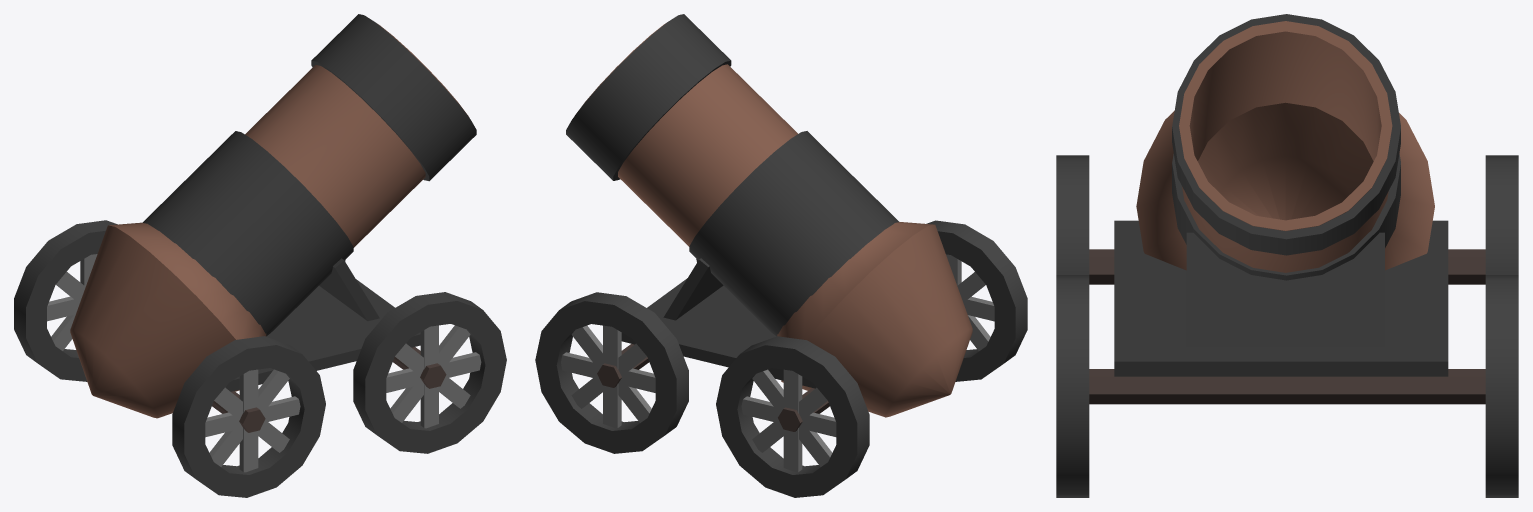
The model's file is west_cannon.fbx.
The picture shows the model from 3 angles, left to right: view 1: azimuth 30°, elevation 25°; view 2: azimuth 150°, elevation 25°; view 3: azimuth 270°, elevation 25°; orthographic projection. The views are drawn at different scales.
Visible parts, largest first — view 1: pPipe3, pPipe5, pPipe1, pPipe7, pPipe4, pPipe2, pCube18, pCube17, pCube1, pCube16, pCube4, pCube13 (+7 smaller); view 2: pPipe3, pPipe5, pPipe2, pPipe6, pPipe4, pPipe1, pCube18, pCube17, pCube8, pCube11, pCube12, pCube7 (+7 smaller); view 3: pPipe3, pCube18, pCube17, pCylinder2, pPipe4, pPipe6, pPipe7, pPipe1, pPipe2, pPipe5, pCylinder1.
Part boxes in pixels (<box>): pPipe3: <box>70,23,469,418</box>; pPipe5: <box>142,131,353,335</box>; pPipe1: <box>172,336,325,497</box>; pPipe7: <box>353,292,506,453</box>; pPipe4: <box>311,14,476,181</box>; pPipe2: <box>14,220,117,381</box>; pCube18: <box>225,279,420,391</box>; pCube17: <box>319,258,379,320</box>; pCube1: <box>239,369,258,472</box>; pCube16: <box>390,325,470,422</box>; pCube4: <box>209,369,289,466</box>; pCube13: <box>420,325,438,428</box>; pPipe3: <box>575,23,972,417</box>; pPipe5: <box>689,131,898,336</box>; pPipe2: <box>716,336,869,497</box>; pPipe6: <box>535,292,688,453</box>; pPipe4: <box>566,14,731,180</box>; pPipe1: <box>926,220,1027,381</box>; pCube18: <box>621,278,846,388</box>; pCube17: <box>663,258,723,320</box>; pCube8: <box>783,369,802,472</box>; pCube11: <box>571,325,651,422</box>; pCube12: <box>603,325,621,428</box>; pCube7: <box>752,369,832,466</box>; pPipe3: <box>1136,21,1434,272</box>; pCube18: <box>1114,220,1448,376</box>; pCube17: <box>1186,232,1384,346</box>; pCylinder2: <box>1089,369,1485,404</box>; pPipe4: <box>1172,14,1400,255</box>; pPipe6: <box>1485,275,1518,497</box>; pPipe7: <box>1056,275,1089,497</box>; pPipe1: <box>1056,155,1089,274</box>; pPipe2: <box>1485,155,1518,274</box>; pPipe5: <box>1172,153,1400,280</box>; pCylinder1: <box>1089,249,1485,284</box>.
Bounding box in the file's own units: 7.39 × 6.77 × 5.78.
